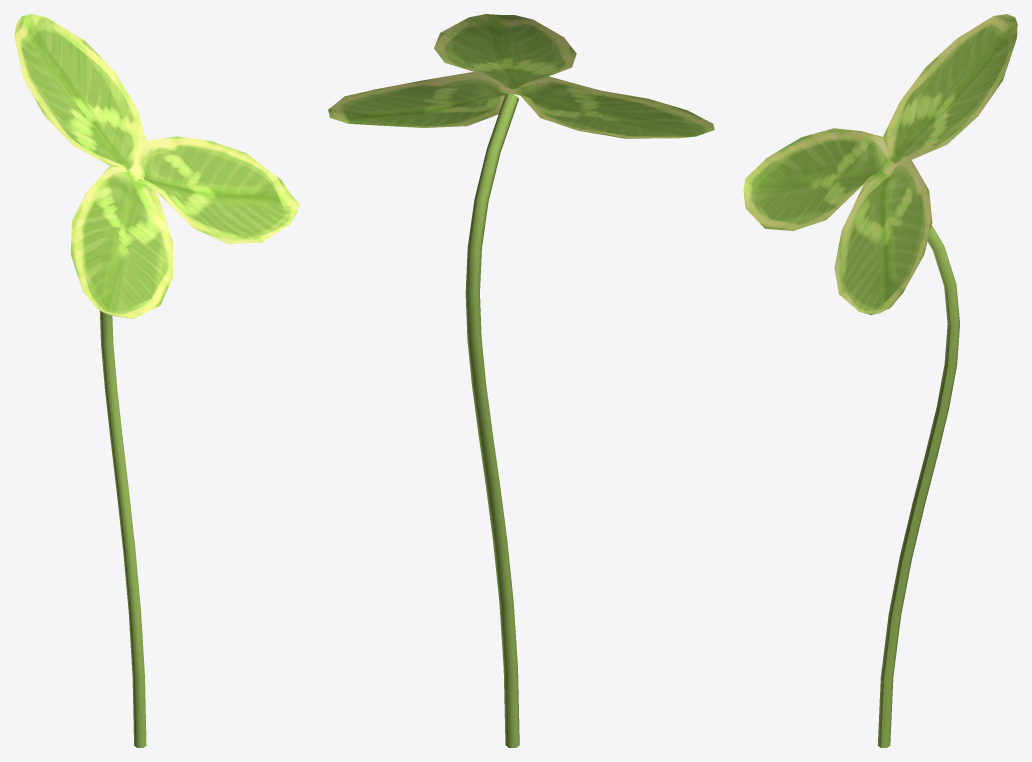
The model's file is 3leaf simple.fbx.
The picture shows the model from 3 angles, left to right: view 1: azimuth 30°, elevation 25°; view 2: azimuth 150°, elevation 25°; view 3: azimuth 270°, elevation 25°; orthographic projection. The views are drawn at different scales.
Parts seen in each view (by area): view 1: Plane.001_Plane.001; view 2: Plane.001_Plane.001; view 3: Plane.001_Plane.001.
Boxes of the visible parts, left/top/right/bottom form: Plane.001_Plane.001: left=14, top=14, right=299, bottom=747; Plane.001_Plane.001: left=328, top=14, right=714, bottom=747; Plane.001_Plane.001: left=743, top=14, right=1017, bottom=747.
Size of the model in its own units: 0.836 by 2.03 by 0.7196.
